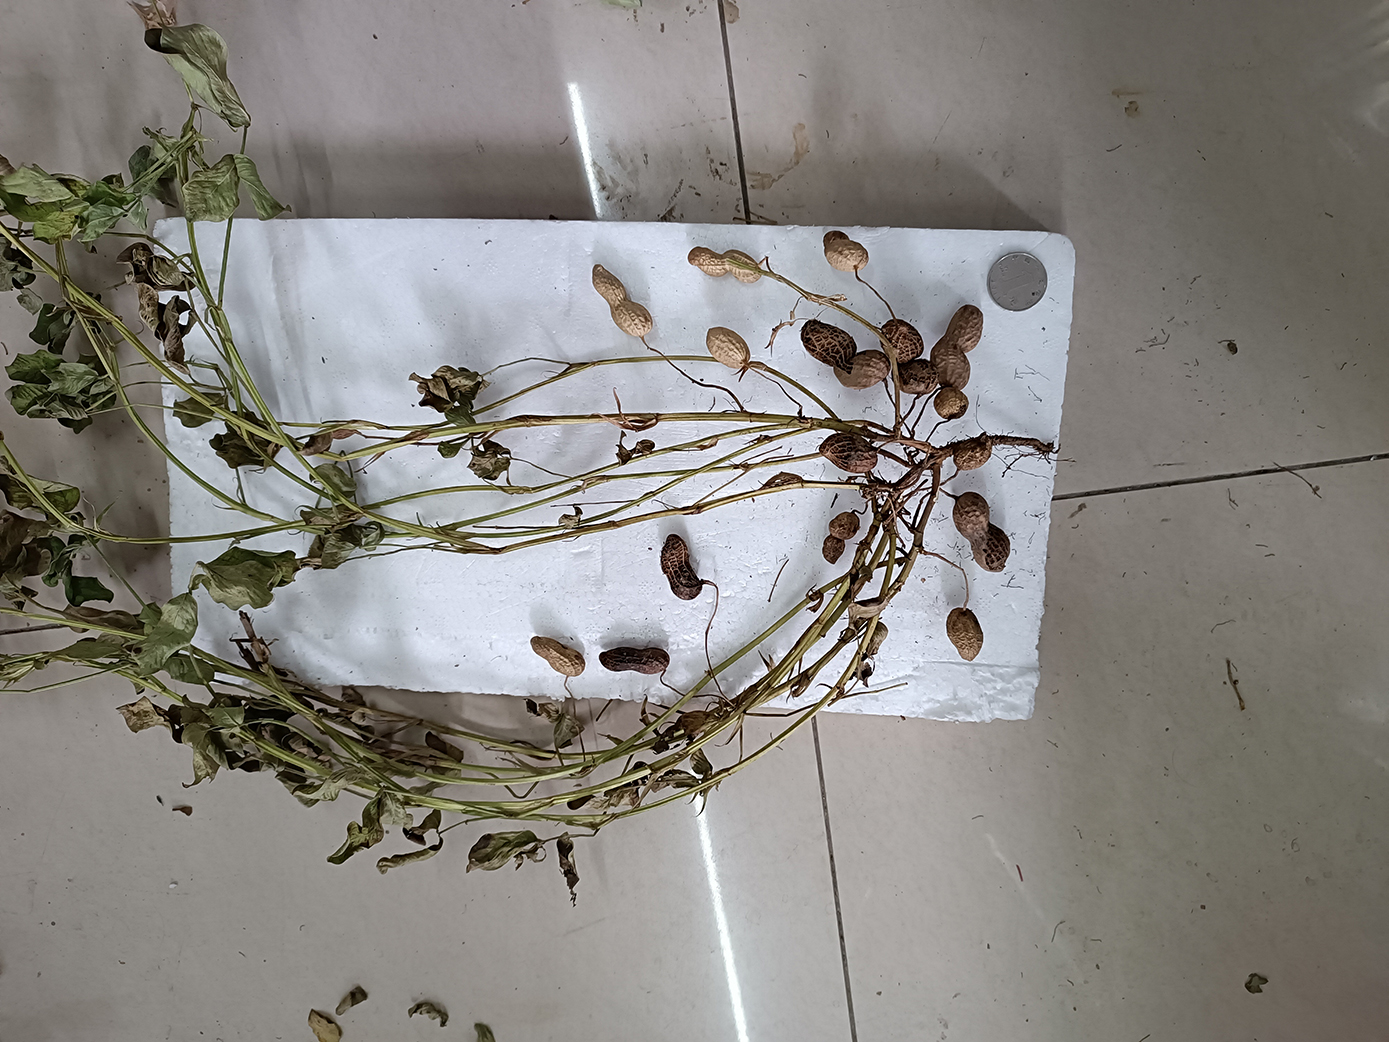h: (591, 263, 653, 338), (930, 304, 984, 390), (687, 245, 762, 283), (530, 636, 586, 678), (946, 607, 984, 662), (822, 230, 870, 273), (705, 326, 751, 369), (934, 387, 969, 420)
l: (801, 319, 892, 389), (952, 491, 1011, 574), (881, 319, 939, 394), (660, 533, 703, 601), (819, 432, 878, 474), (821, 511, 860, 565), (598, 647, 670, 675), (953, 440, 992, 471)
